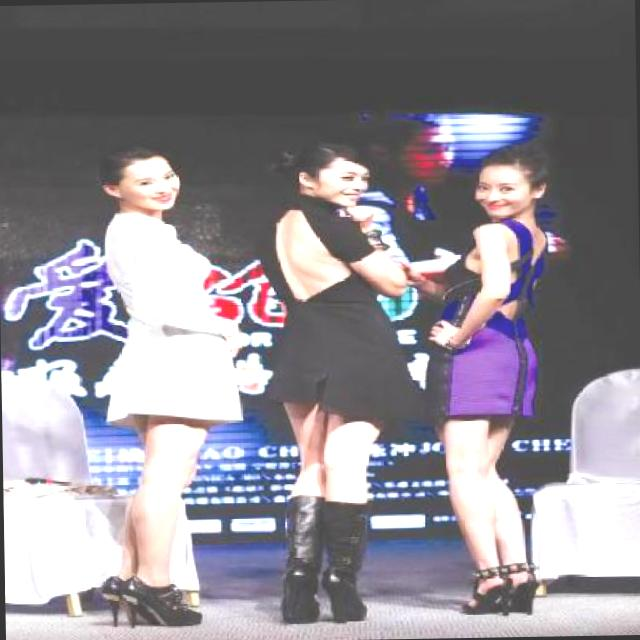Person: (33, 141, 259, 640), (220, 142, 443, 640), (394, 131, 610, 638)
